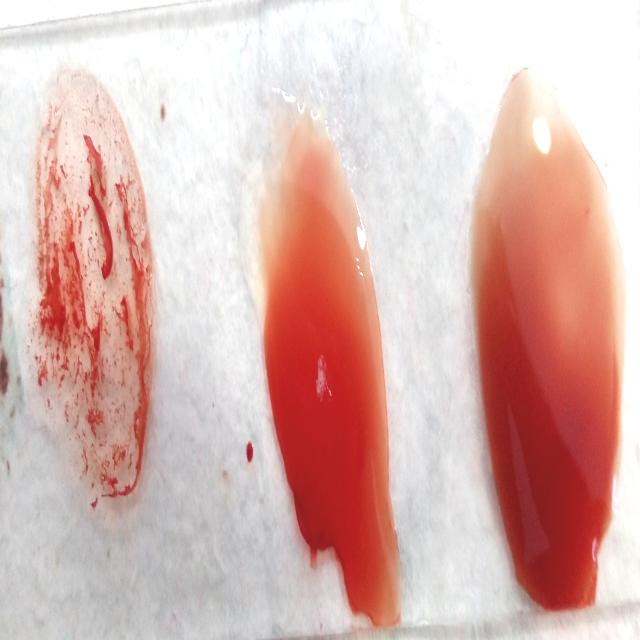D: (31, 68, 156, 530)
